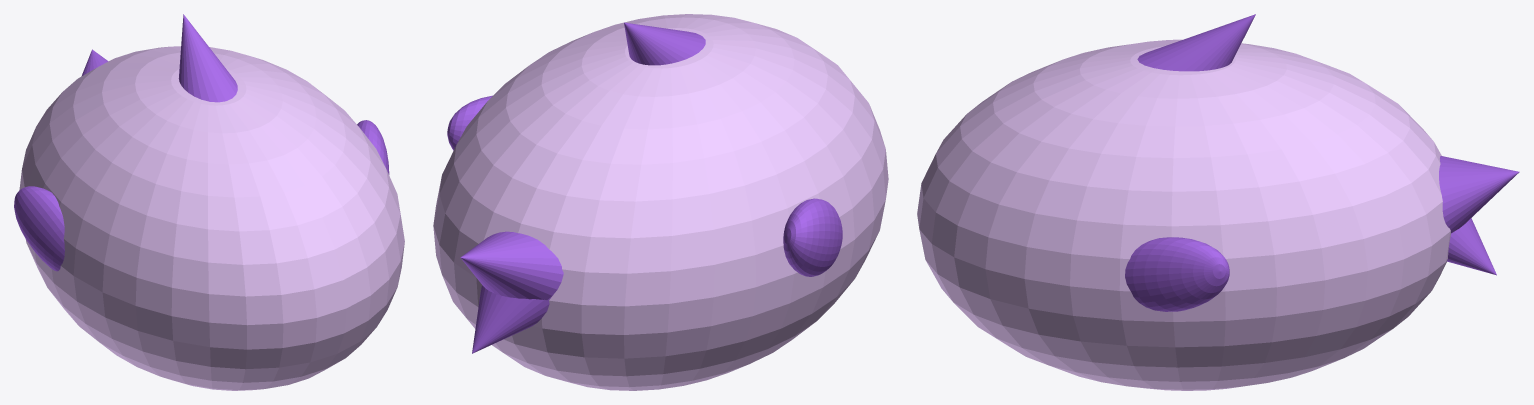
The model's file is fish2.glb.
3 renders of one model, left to right at view 1: azimuth 30°, elevation 25°; view 2: azimuth 150°, elevation 25°; view 3: azimuth 270°, elevation 25°, orthographic. The views are drawn at different scales.
Parts seen in each view (by area): view 1: fish2; view 2: fish2; view 3: fish2.
Boxes of the visible parts, x1,y1,x2,y2 form: fish2: (14,14,404,390); fish2: (433,14,888,390); fish2: (917,14,1519,390).
Size of the model in its own units: 0.1462 by 0.1312 by 0.2003.
